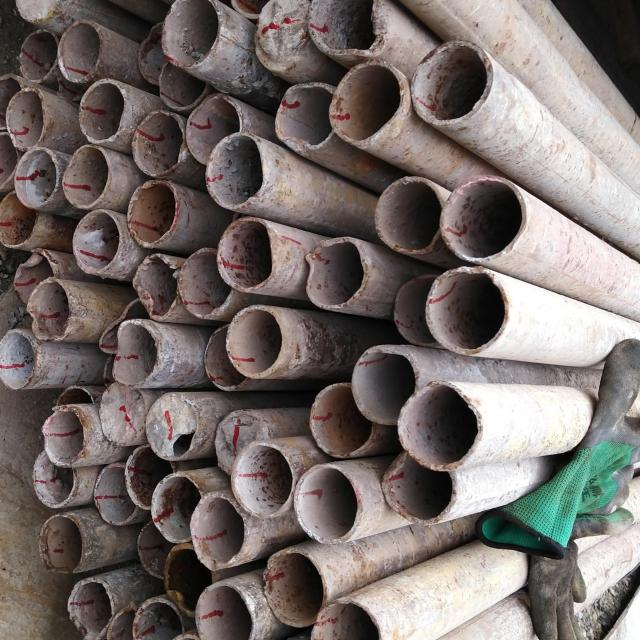pipe: (424, 265, 510, 356), (398, 379, 483, 471), (439, 174, 527, 262), (409, 40, 493, 125), (330, 60, 411, 144), (382, 448, 456, 525), (349, 346, 420, 426), (374, 176, 445, 254), (294, 463, 362, 544), (308, 381, 379, 456), (230, 440, 296, 518), (264, 548, 326, 629), (205, 131, 267, 210), (225, 304, 285, 380), (190, 492, 247, 572), (305, 236, 368, 308), (217, 216, 275, 292), (308, 0, 386, 56), (185, 93, 245, 165), (275, 80, 337, 148), (161, 0, 222, 69), (256, 0, 314, 72), (393, 274, 449, 347), (162, 544, 217, 618), (150, 471, 204, 544), (178, 248, 234, 318), (214, 409, 271, 474), (146, 392, 200, 460), (125, 179, 178, 247), (124, 442, 176, 511), (194, 583, 256, 640), (133, 109, 184, 178), (112, 318, 162, 388), (132, 251, 182, 320), (72, 209, 122, 274), (99, 296, 153, 356), (66, 577, 117, 640), (60, 144, 110, 208), (78, 78, 127, 143), (203, 322, 249, 391), (98, 381, 146, 446), (93, 462, 141, 527), (39, 406, 88, 468), (136, 517, 184, 580), (311, 598, 383, 640), (38, 513, 85, 576), (57, 18, 103, 81), (27, 278, 72, 342), (14, 146, 60, 208), (158, 56, 210, 110), (32, 448, 78, 508), (137, 21, 180, 85), (12, 250, 58, 306), (6, 86, 46, 148), (18, 28, 61, 82), (0, 328, 38, 389), (132, 597, 185, 640), (0, 191, 38, 249), (54, 384, 95, 432), (0, 74, 26, 130), (106, 604, 141, 640), (0, 128, 19, 190), (14, 0, 62, 23)
